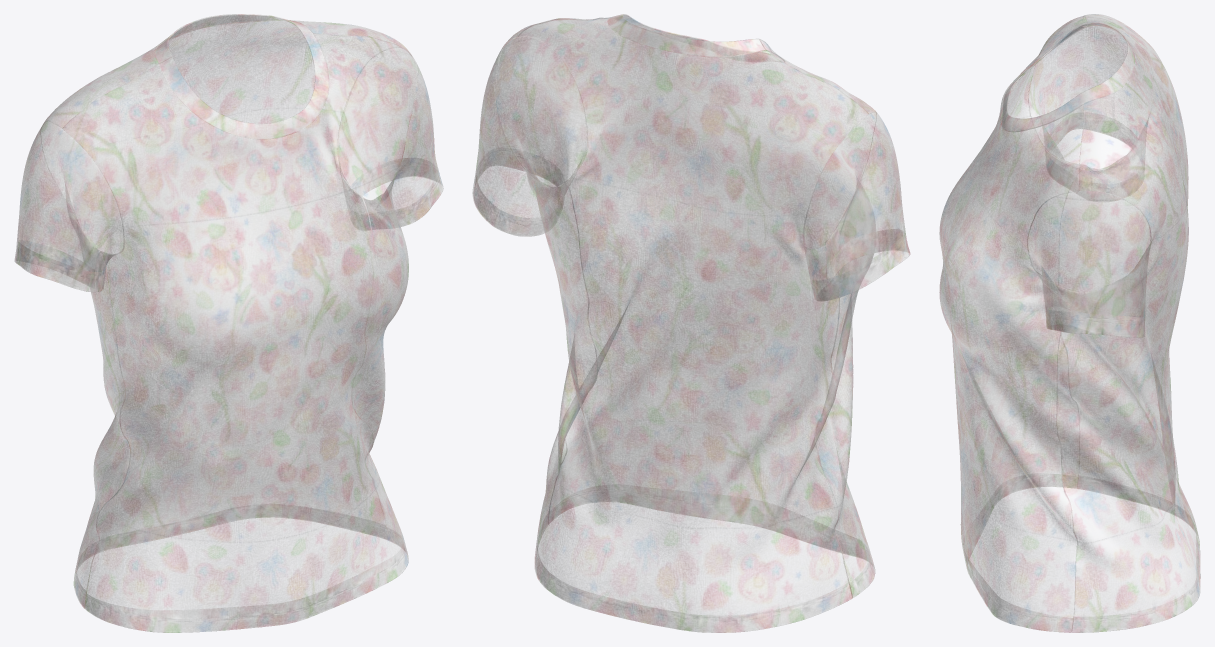
Rendered from illustrated-mesh-tee-2.glb.
The picture shows the model from 3 angles, left to right: view 1: azimuth 30°, elevation 25°; view 2: azimuth 150°, elevation 25°; view 3: azimuth 270°, elevation 25°; orthographic projection. The views are drawn at different scales.
Parts seen in each view (by area): view 1: t_shirt_n3d; view 2: t_shirt_n3d; view 3: t_shirt_n3d.
Part boxes in pixels (box(x1,y1,x2,y2)): t_shirt_n3d: box(14, 14, 443, 632); t_shirt_n3d: box(472, 14, 910, 632); t_shirt_n3d: box(939, 14, 1200, 632).
Bounding box in the file's own units: 0.4329 × 0.5472 × 0.2476.
1 material, 1 textured.
